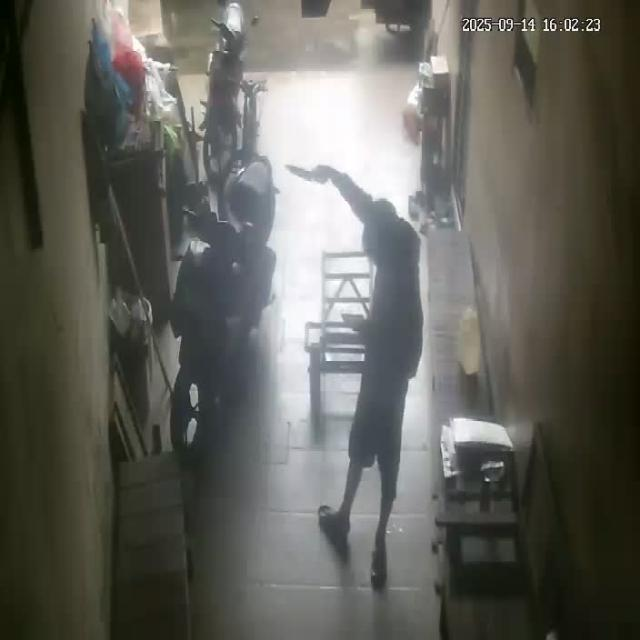senjata_tajam: (282, 160, 312, 185)
